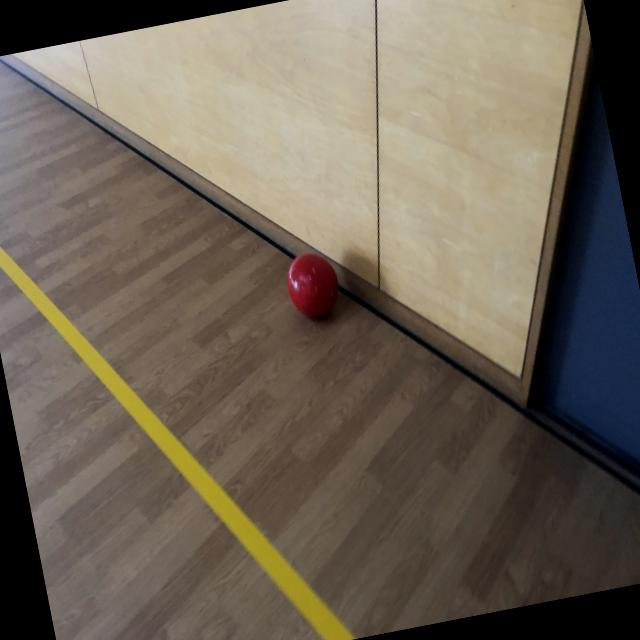red_ball: (282, 248, 343, 322)
